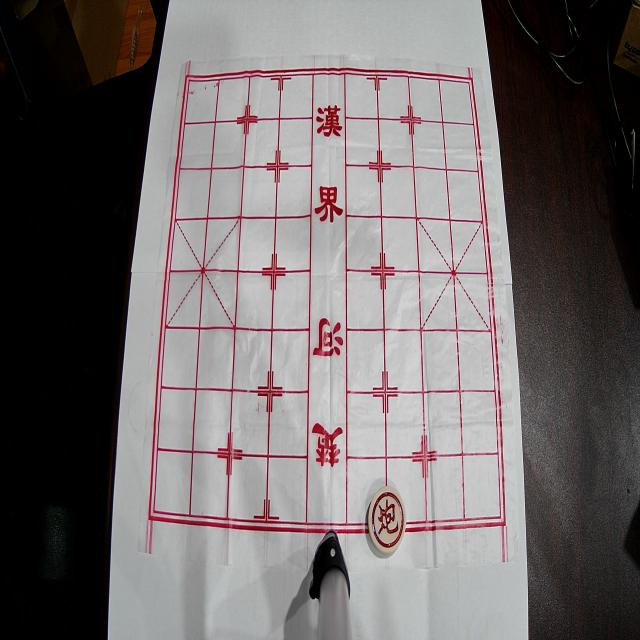red-cannon: (368, 486, 406, 555)
